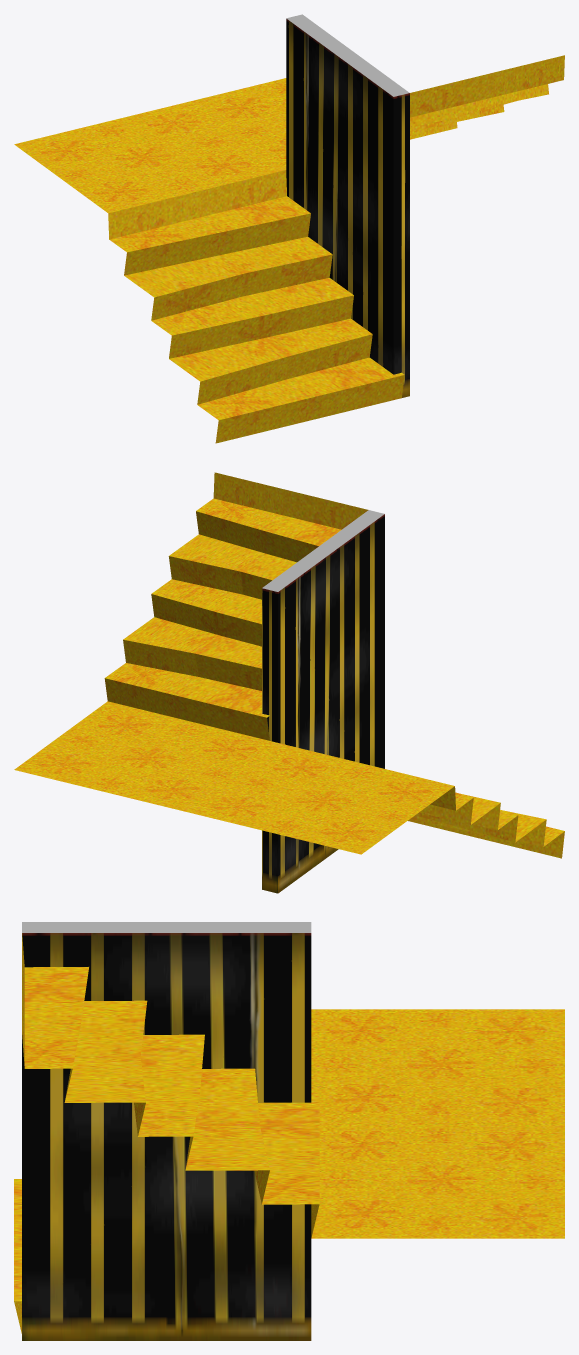
The model's file is TreppeMitTrennwand [Gelb]_1953.glb.
The picture shows the model from 3 angles, top to bottom: view 1: azimuth 30°, elevation 25°; view 2: azimuth 150°, elevation 25°; view 3: azimuth 270°, elevation 25°; orthographic projection. The views are drawn at different scales.
Parts seen in each view (by area): view 1: pPlaneShape17, pPlaneShape20, pPlaneShape1, pPlaneShape19, pPlaneShape22, pPlaneShape18; view 2: pPlaneShape1, pPlaneShape19, pPlaneShape20, pPlaneShape17, pPlaneShape23, pPlaneShape18; view 3: pPlaneShape21, pPlaneShape1, pPlaneShape19, pPlaneShape18, pPlaneShape17.
Part boxes in pixels (x1,y1,x2,y2): pPlaneShape17: (108, 170, 404, 443); pPlaneShape20: (286, 18, 393, 374); pPlaneShape1: (14, 78, 286, 213); pPlaneShape19: (410, 55, 564, 139); pPlaneShape22: (393, 93, 409, 397); pPlaneShape18: (286, 14, 409, 96); pPlaneShape1: (14, 701, 454, 854); pPlaneShape19: (104, 472, 368, 740); pPlaneShape20: (278, 514, 384, 893); pPlaneShape17: (408, 786, 564, 858); pPlaneShape23: (262, 588, 277, 893); pPlaneShape18: (262, 510, 384, 591); pPlaneShape21: (22, 933, 311, 1340); pPlaneShape1: (311, 1009, 564, 1238); pPlaneShape19: (22, 933, 319, 1237); pPlaneShape18: (22, 922, 311, 932); pPlaneShape17: (14, 1179, 21, 1333).
Bounding box in the file's own units: 0.4693 × 0.3891 × 0.4763.
8 materials, 7 textured.
